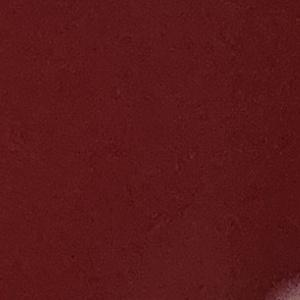colony: (259, 267, 300, 300)
